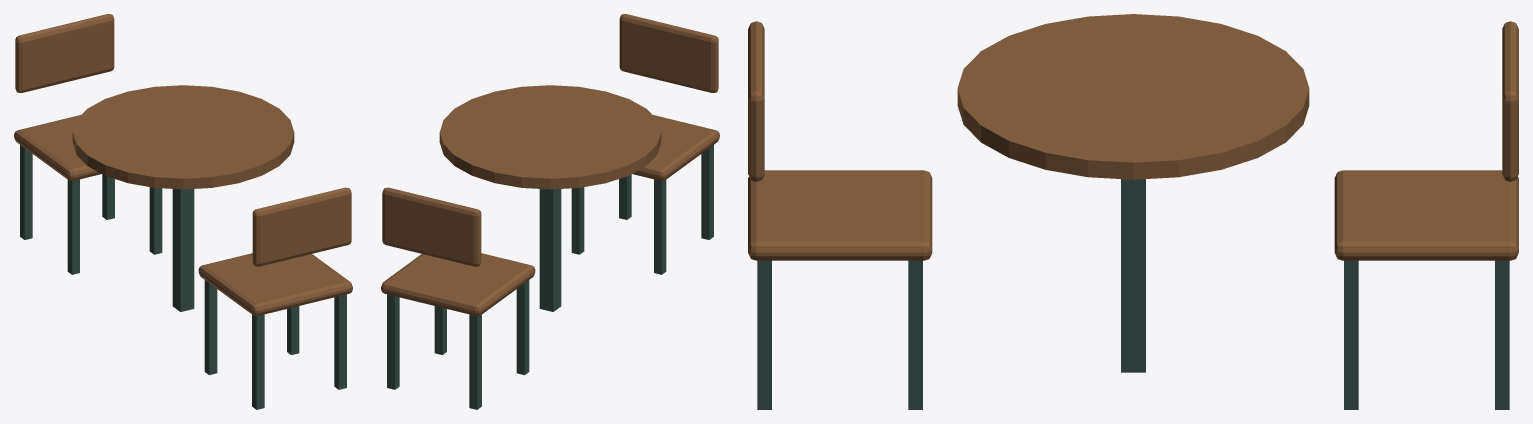
File: cafe-set.glb
3 views of the same model, side by side, from view 1: azimuth 30°, elevation 25°; view 2: azimuth 150°, elevation 25°; view 3: azimuth 270°, elevation 25° (orthographic). The views are drawn at different scales.
Parts seen in each view (by area): view 1: Approved C1A cafe-set / material batch; view 2: Approved C1A cafe-set / material batch; view 3: Approved C1A cafe-set / material batch.
Part boxes in pixels (<box>): Approved C1A cafe-set / material batch: <box>14,14,352,409</box>; Approved C1A cafe-set / material batch: <box>381,14,719,409</box>; Approved C1A cafe-set / material batch: <box>748,14,1518,409</box>.
Bounding box in the file's own units: 0.84 × 0.84 × 1.84.
